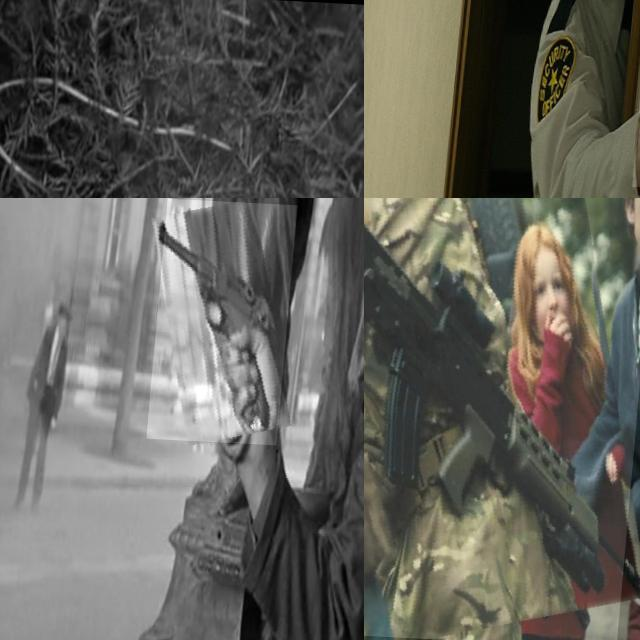gun-knife-thesis - v11 Yolov5 augmented: (364, 198, 640, 640), (154, 198, 300, 441)
